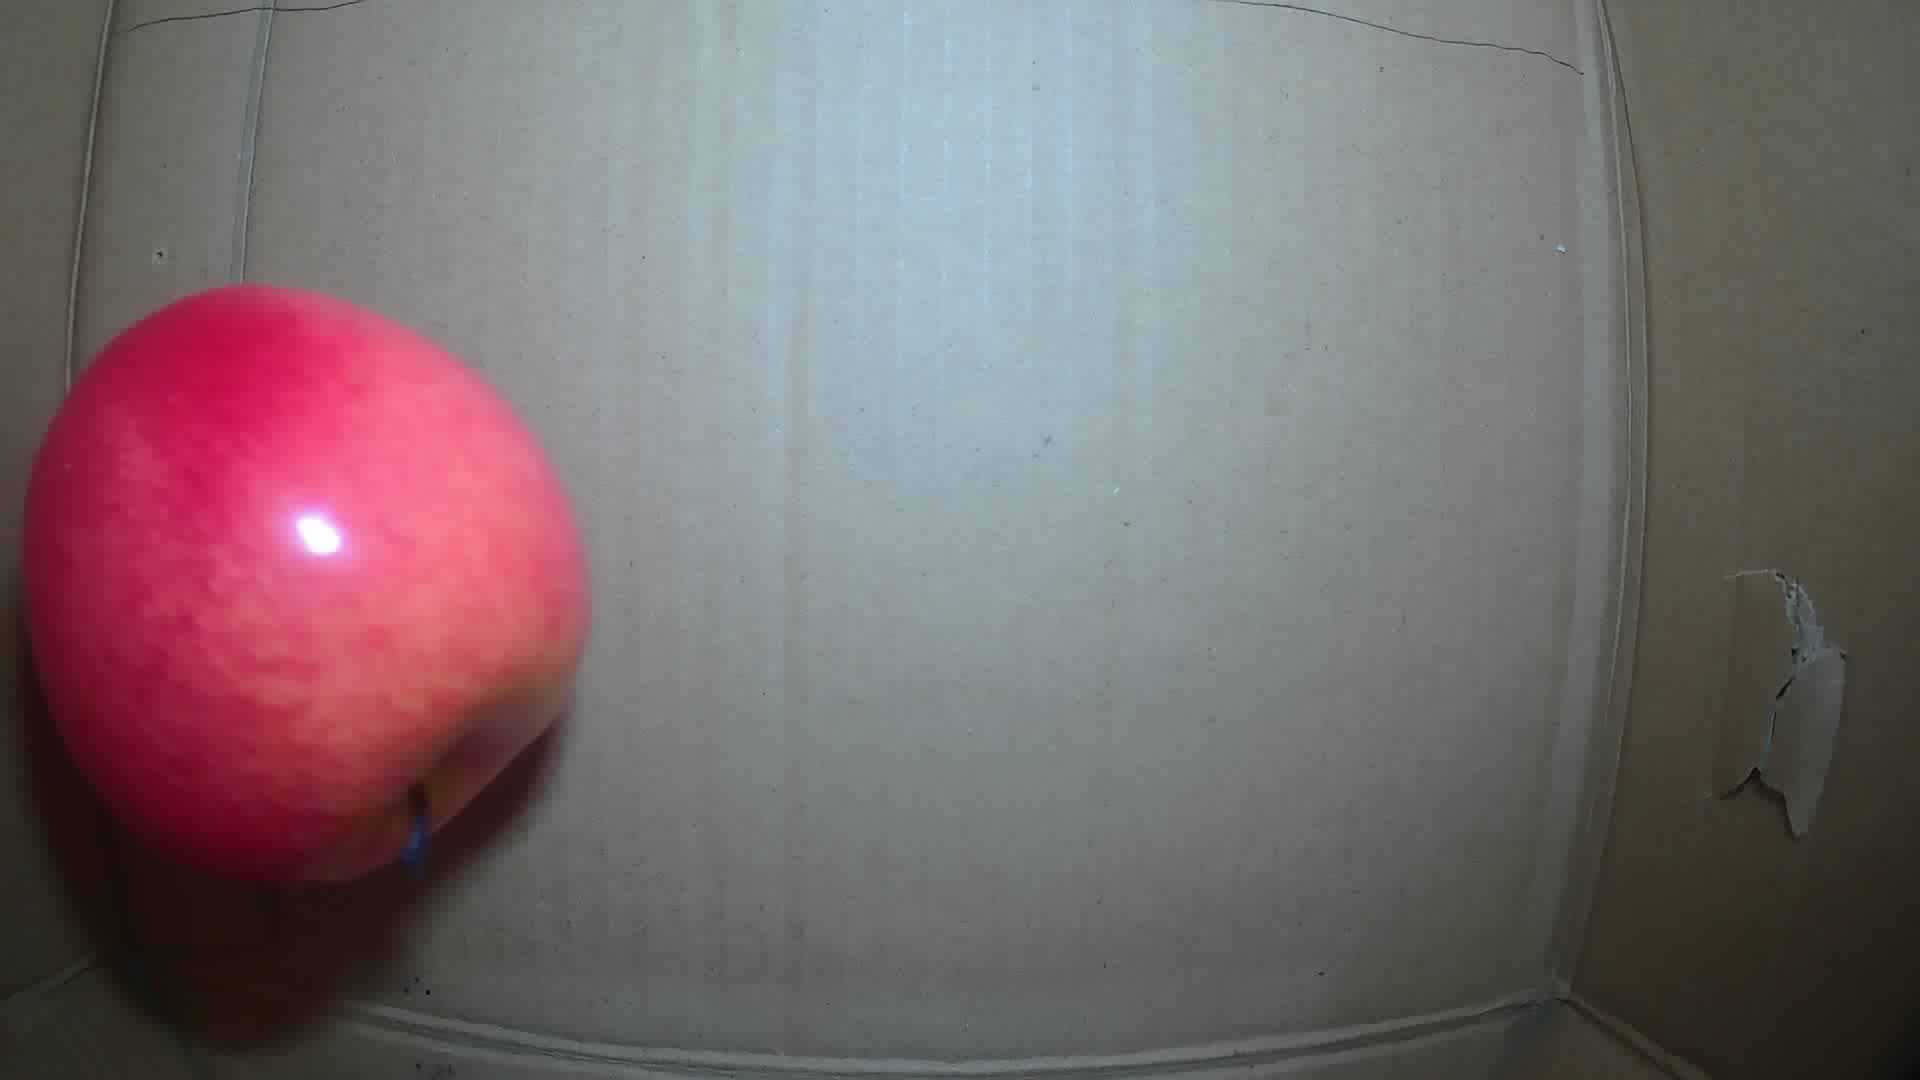apple: (26, 286, 591, 884)
